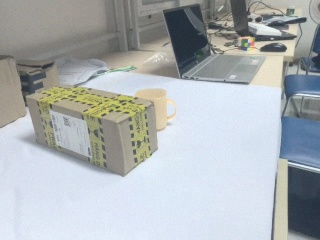box: (28, 87, 157, 176), (1, 54, 27, 138)
cup: (134, 88, 177, 131)
mouse: (260, 43, 287, 52), (268, 20, 285, 27)
